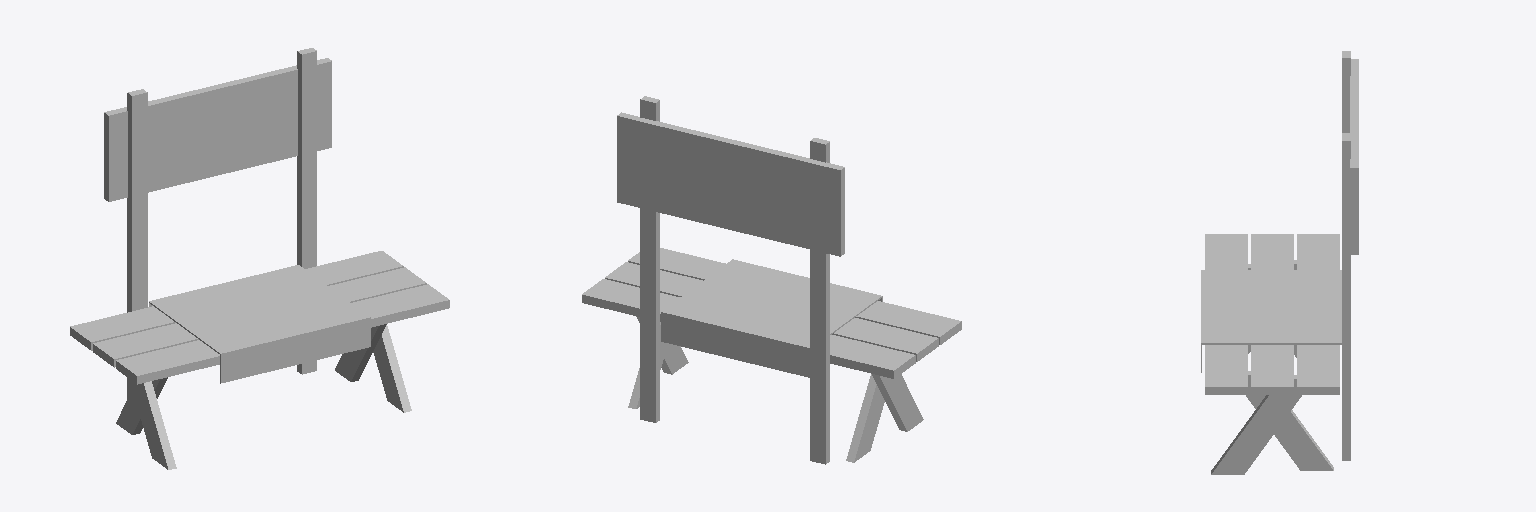
File: customerService.obj
3 views of the same model, side by side, from view 1: azimuth 30°, elevation 25°; view 2: azimuth 150°, elevation 25°; view 3: azimuth 270°, elevation 25° (orthographic).
Visible parts, largest first — view 1: sign_GEO sign_GEO, table_GEO tableCloth_GEO, table_GEO tableTop2_GEO, sign_GEO signBeam1_GEO, signBeam2_GEO sign_GEO, tableTop2_GEO1 table_GEO, table_GEO tableTop3_GEO, table_GEO legL1_GEO, table_GEO legR2_GEO, table_GEO legR1_GEO, table_GEO legL2_GEO; view 2: sign_GEO sign_GEO, table_GEO tableCloth_GEO, signBeam2_GEO sign_GEO, sign_GEO signBeam1_GEO, tableTop2_GEO1 table_GEO, table_GEO tableTop2_GEO, table_GEO tableTop3_GEO, table_GEO legL2_GEO, table_GEO legL1_GEO, table_GEO legR2_GEO; view 3: table_GEO tableCloth_GEO, tableTop2_GEO1 table_GEO, table_GEO tableTop2_GEO, table_GEO tableTop3_GEO, table_GEO legR2_GEO, signBeam2_GEO sign_GEO, table_GEO legR1_GEO, sign_GEO sign_GEO, sign_GEO signBeam1_GEO.
Part boxes in pixels (bbox=[...]): sign_GEO sign_GEO: bbox=[104, 58, 331, 201]; table_GEO tableCloth_GEO: bbox=[149, 265, 370, 383]; table_GEO tableTop2_GEO: bbox=[116, 284, 449, 384]; sign_GEO signBeam1_GEO: bbox=[127, 89, 147, 398]; signBeam2_GEO sign_GEO: bbox=[297, 48, 316, 374]; tableTop2_GEO1 table_GEO: bbox=[70, 251, 403, 350]; table_GEO tableTop3_GEO: bbox=[93, 267, 426, 367]; table_GEO legL1_GEO: bbox=[129, 379, 176, 469]; table_GEO legR2_GEO: bbox=[373, 325, 411, 412]; table_GEO legR1_GEO: bbox=[335, 324, 386, 381]; table_GEO legL2_GEO: bbox=[116, 377, 167, 434]; sign_GEO sign_GEO: bbox=[617, 112, 844, 256]; table_GEO tableCloth_GEO: bbox=[661, 259, 882, 377]; signBeam2_GEO sign_GEO: bbox=[640, 96, 659, 422]; sign_GEO signBeam1_GEO: bbox=[810, 138, 829, 464]; tableTop2_GEO1 table_GEO: bbox=[582, 279, 915, 378]; table_GEO tableTop2_GEO: bbox=[628, 248, 961, 344]; table_GEO tableTop3_GEO: bbox=[605, 262, 938, 361]; table_GEO legL2_GEO: bbox=[846, 374, 884, 462]; table_GEO legL1_GEO: bbox=[872, 374, 923, 431]; table_GEO legR2_GEO: bbox=[636, 316, 688, 374]; table_GEO tableCloth_GEO: bbox=[1201, 270, 1341, 372]; tableTop2_GEO1 table_GEO: bbox=[1297, 234, 1339, 394]; table_GEO tableTop2_GEO: bbox=[1205, 234, 1247, 394]; table_GEO tableTop3_GEO: bbox=[1251, 234, 1293, 394]; table_GEO legR2_GEO: bbox=[1211, 375, 1301, 474]; signBeam2_GEO sign_GEO: bbox=[1342, 133, 1350, 460]; table_GEO legR1_GEO: bbox=[1246, 371, 1333, 470]; sign_GEO sign_GEO: bbox=[1350, 59, 1358, 254]; sign_GEO signBeam1_GEO: bbox=[1342, 51, 1350, 132].
Size of the model in its own units: 5.87 by 5.74 by 2.58.